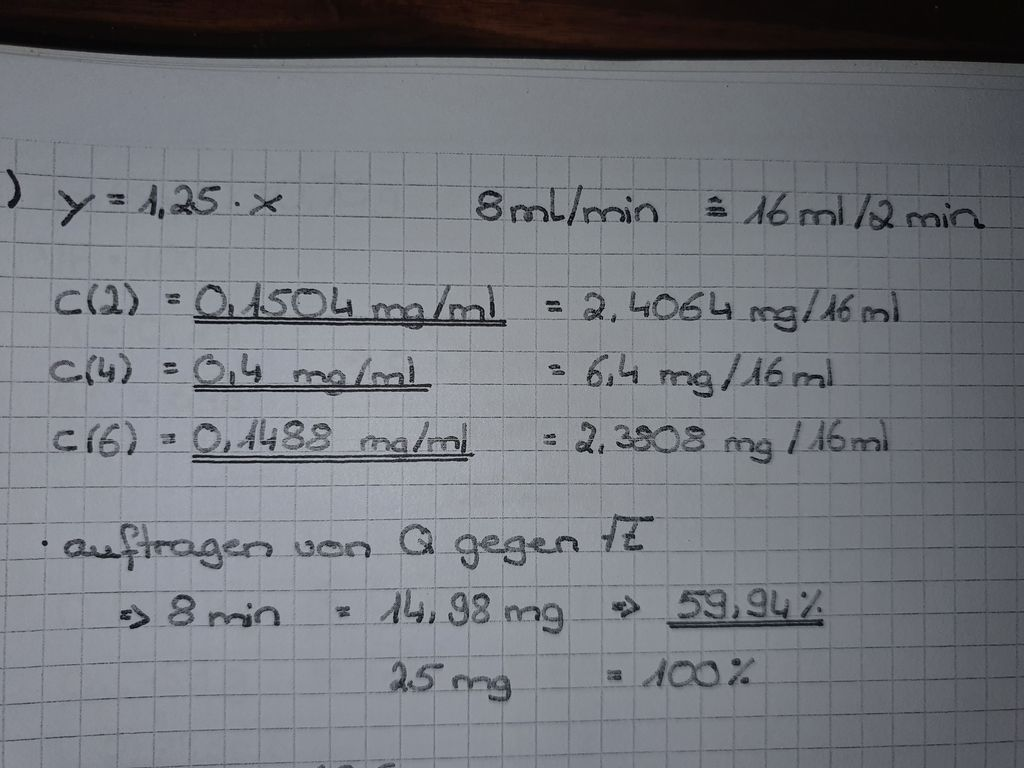equals: (699, 187, 734, 228), (534, 285, 566, 320), (541, 354, 575, 386), (158, 283, 186, 317), (329, 595, 357, 627), (102, 184, 132, 212), (157, 356, 187, 384), (156, 422, 186, 449), (538, 421, 561, 452), (601, 665, 626, 688)
equation: (36, 265, 921, 334), (32, 337, 868, 406), (34, 409, 898, 462), (462, 170, 994, 245), (153, 570, 574, 641), (366, 638, 769, 710), (50, 173, 294, 231)
fraction: (192, 405, 485, 470), (191, 274, 518, 332), (575, 279, 909, 323), (748, 181, 986, 238), (584, 344, 841, 395), (191, 346, 441, 398), (468, 176, 681, 233), (573, 421, 886, 455)
term: (376, 578, 570, 630), (664, 577, 831, 628), (385, 650, 527, 707), (134, 175, 286, 225), (169, 579, 302, 631), (641, 649, 759, 703), (46, 345, 138, 392), (48, 275, 148, 317), (45, 417, 145, 457), (57, 180, 97, 227)
